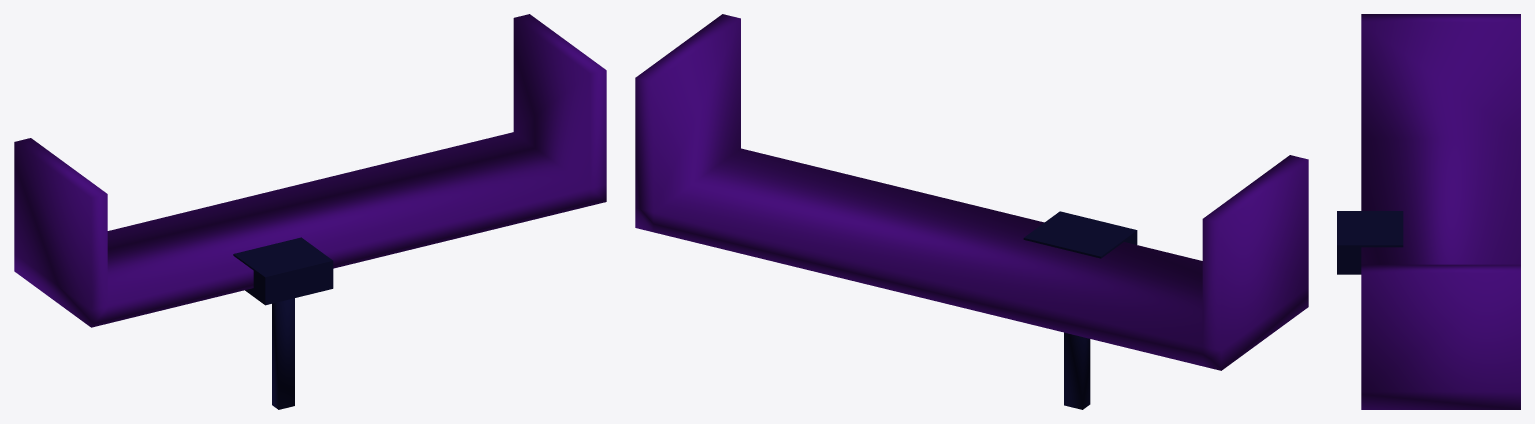
The model's file is Doldurma_03.fbx.
3 renders of one model, left to right at view 1: azimuth 30°, elevation 25°; view 2: azimuth 150°, elevation 25°; view 3: azimuth 270°, elevation 25°, orthographic. The views are drawn at different scales.
Parts seen in each view (by area): view 1: Cube.033, Cube.036, Cube.037; view 2: Cube.033, Cube.036, Cube.037; view 3: Cube.033, Cube.036.
Boxes of the visible parts, box(x1,y1,x2,y2) form: Cube.033: box(14, 14, 606, 327); Cube.036: box(233, 237, 333, 305); Cube.037: box(272, 298, 294, 409); Cube.033: box(635, 14, 1308, 370); Cube.036: box(1023, 211, 1137, 258); Cube.037: box(1064, 332, 1090, 409); Cube.033: box(1361, 14, 1520, 409); Cube.036: box(1337, 211, 1403, 274).
Bounding box in the file's own units: 360 × 175 × 107.
